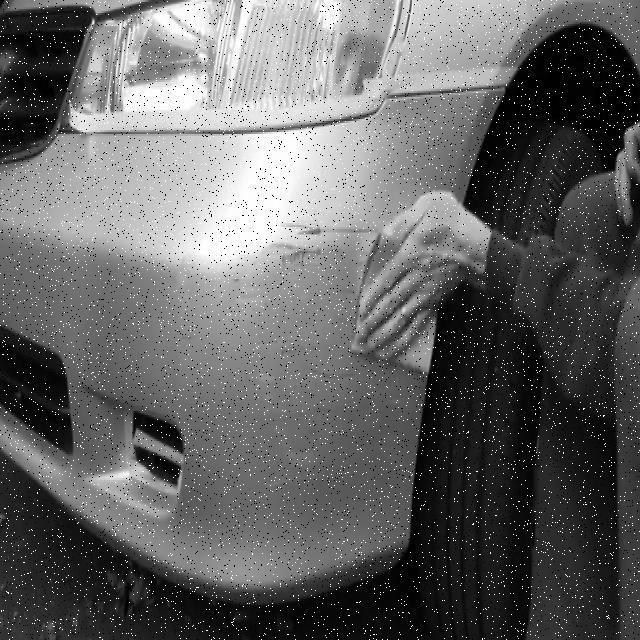front-bumper-dent: (7, 125, 479, 592)
